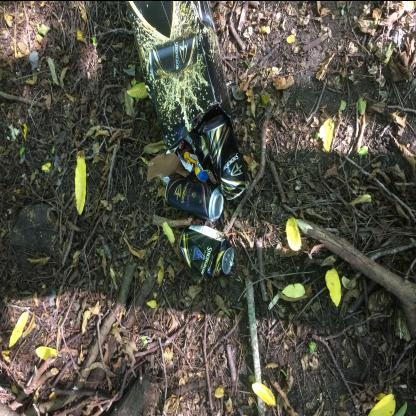karton: (127, 1, 232, 146)
metal: (203, 113, 247, 200), (178, 224, 235, 275), (166, 177, 224, 221)
plastik: (176, 149, 218, 185)
